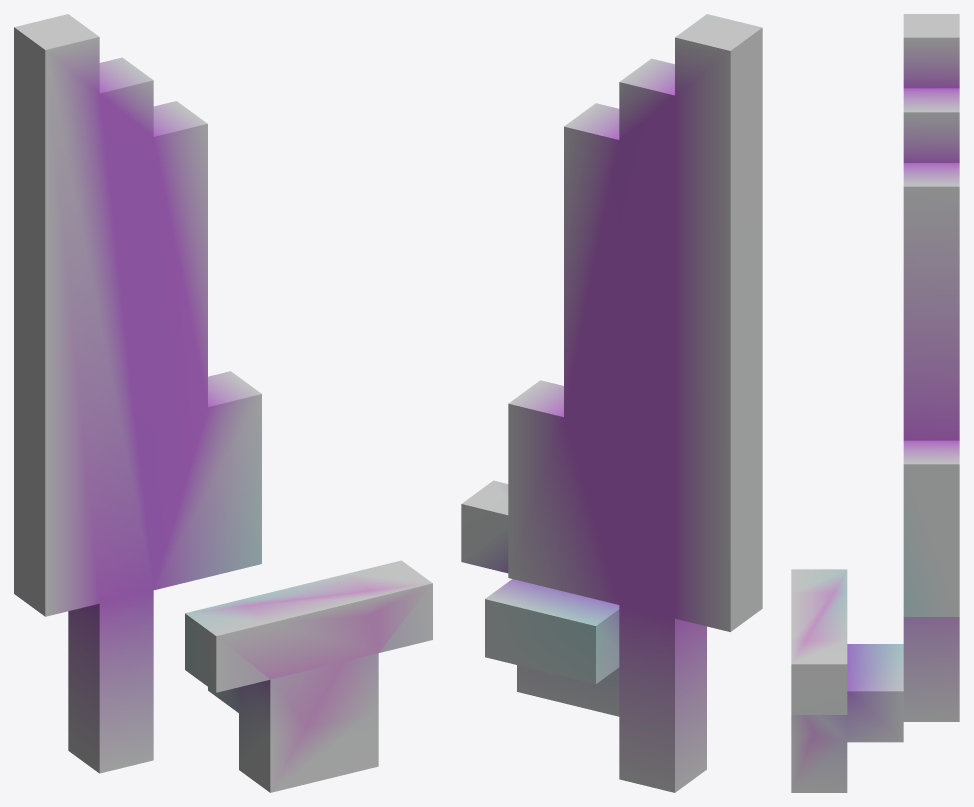
3 views of the same model, side by side, from view 1: azimuth 30°, elevation 25°; view 2: azimuth 150°, elevation 25°; view 3: azimuth 270°, elevation 25° (orthographic). The views are drawn at different scales.
Visible parts, largest first — view 1: slab, beam; view 2: slab, beam; view 3: slab, beam.
Boxes of the visible parts, left/top/right/bottom form: slab: left=14, top=14, right=261, bottom=773; beam: left=185, top=560, right=432, bottom=792; slab: left=508, top=14, right=762, bottom=792; beam: left=461, top=480, right=619, bottom=716; slab: left=903, top=14, right=959, bottom=721; beam: left=791, top=569, right=903, bottom=792.
Size of the model in its own units: 0.2769 by 0.6 by 0.1385.
